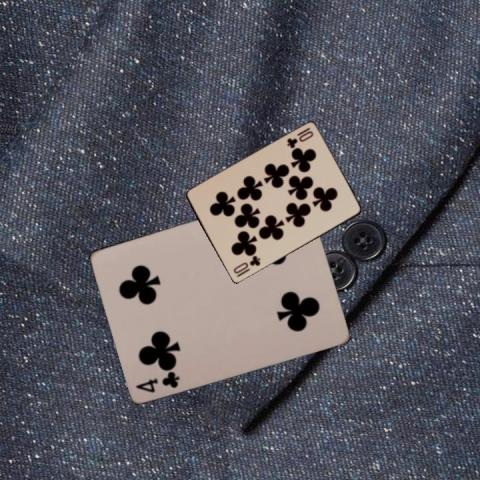10c: (230, 252, 261, 278), (283, 125, 315, 150)
4c: (133, 367, 181, 394)
